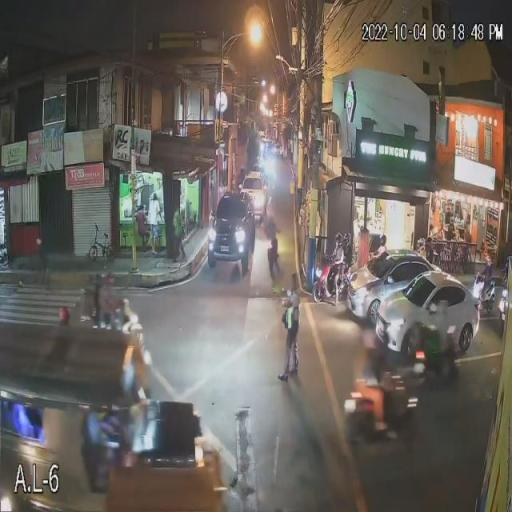helmet: (363, 324, 389, 354), (94, 268, 116, 292), (414, 315, 432, 332), (58, 306, 70, 324), (481, 254, 493, 270), (334, 232, 343, 242), (343, 231, 352, 241)
motorcycle: (343, 358, 424, 442), (94, 294, 148, 348), (472, 257, 508, 323), (406, 322, 442, 382), (311, 254, 352, 306)
rider: (354, 326, 396, 432), (406, 308, 445, 375), (329, 232, 351, 298), (480, 252, 503, 303), (86, 276, 106, 321), (104, 276, 118, 328)
